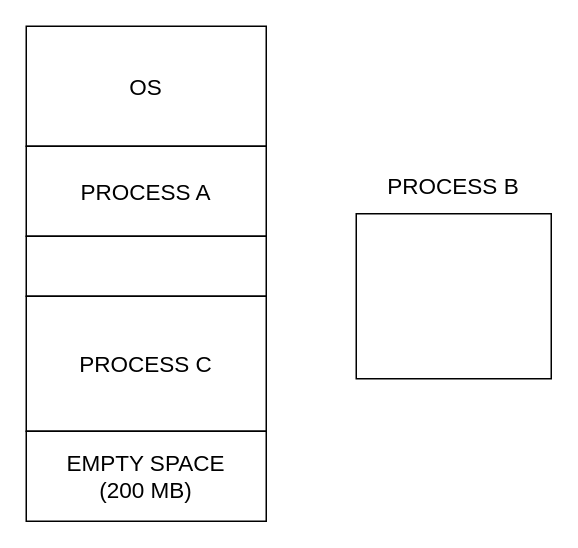
Image size: 578x548. Some labels were removed from this diagram. Each missing label, with the box of its shape:
EMPTY SPACE (100 MB): (25, 235, 266, 296)
REQUIRES 300 MB: (355, 212, 551, 379)
